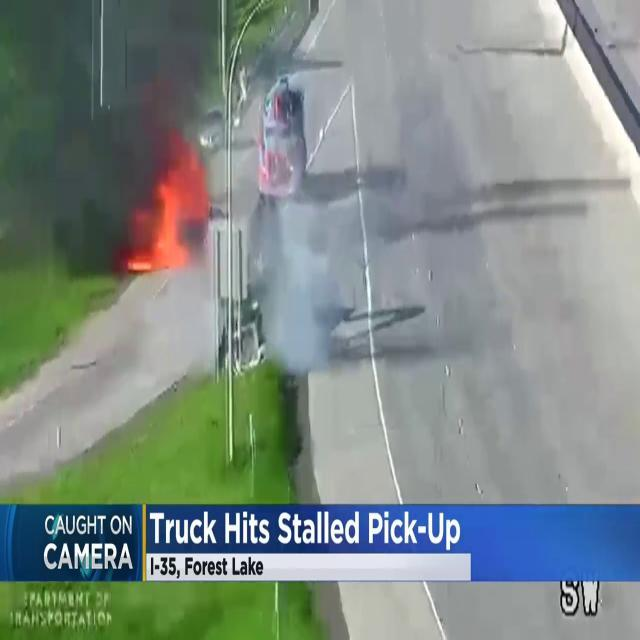Fire: (125, 140, 209, 282)
Smoke: (0, 1, 158, 242), (252, 185, 399, 382), (116, 12, 211, 198)
